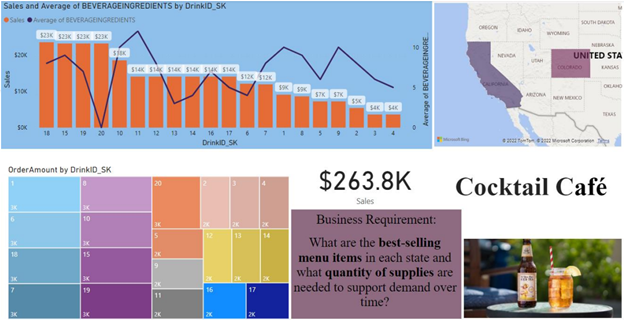

Layout of this report page (visuals, bound fields, positions):
{"tool":"powerbi","page":{"name":"Best-Selling item","canvas":[1280,720],"ordinal":0},"visuals":[{"type":"lineClusteredColumnComboChart","fields":{"Category":["FactSales.DrinkID_SK"],"Y":["Sum(FactSales.Sales)"],"Y2":["Avg(FactSales.BEVERAGEINGREDIENTS)"]},"box":[0,0,885.2,303.9],"z":0},{"type":"filledMap","fields":{"Category":["DimCustomer.State"]},"box":[885.2,0,394.4,303.9],"z":1000},{"type":"treemap","fields":{"Group":["FactSales.DrinkID_SK"],"Values":["Sum(FactSales.OrderAmount)"]},"box":[9.6,336.5,586.4,321.4],"z":2000},{"type":"card","fields":{"Values":["Sum(FactSales.Sales)"]},"box":[610.3,319.6,275,106.1],"z":3000},{"type":"image","title":"Cocktail Cafe","box":[945.5,428.1,334.1,282.2],"z":4000},{"type":"textbox","box":[595.8,428.1,349.7,224.3],"z":5000},{"type":"textbox","box":[897.3,346.1,382.3,79.6],"z":6000}]}

Visuals, with their boxes on the page's 1280x720 design canvas (x1, y1, x2, y2). These are canvas units, not pixel positions in the 624x320 screenshot, which may show the page scaled, cropped or inside an application window:
lineClusteredColumnComboChart - FactSales.DrinkID_SK x Sum(FactSales.Sales): [0, 0, 885, 304]
filledMap - DimCustomer.State: [885, 0, 1280, 304]
treemap - FactSales.DrinkID_SK x Sum(FactSales.OrderAmount): [10, 336, 596, 658]
card - Sum(FactSales.Sales): [610, 320, 885, 426]
"Cocktail Cafe" image: [946, 428, 1280, 710]
textbox: [596, 428, 946, 652]
textbox: [897, 346, 1280, 426]
